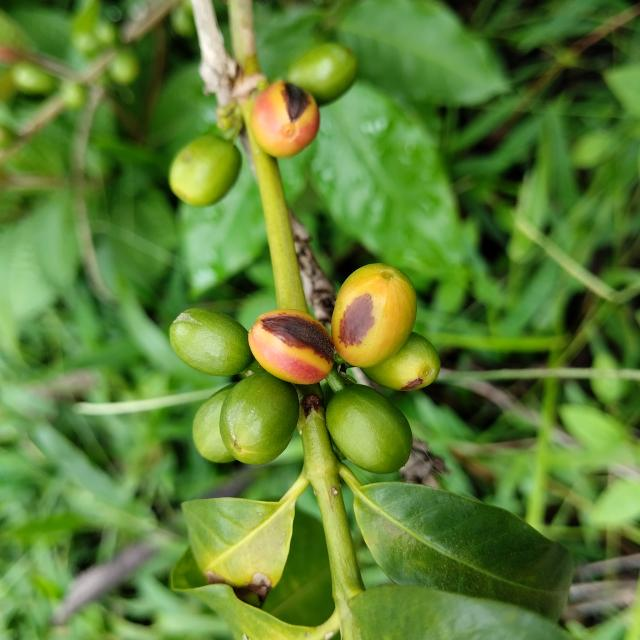green: (326, 385, 413, 474), (219, 372, 299, 465), (169, 308, 253, 376), (169, 135, 241, 206), (362, 332, 441, 391), (192, 383, 236, 463)
red: (331, 264, 417, 368), (248, 309, 335, 385), (251, 80, 320, 157)
